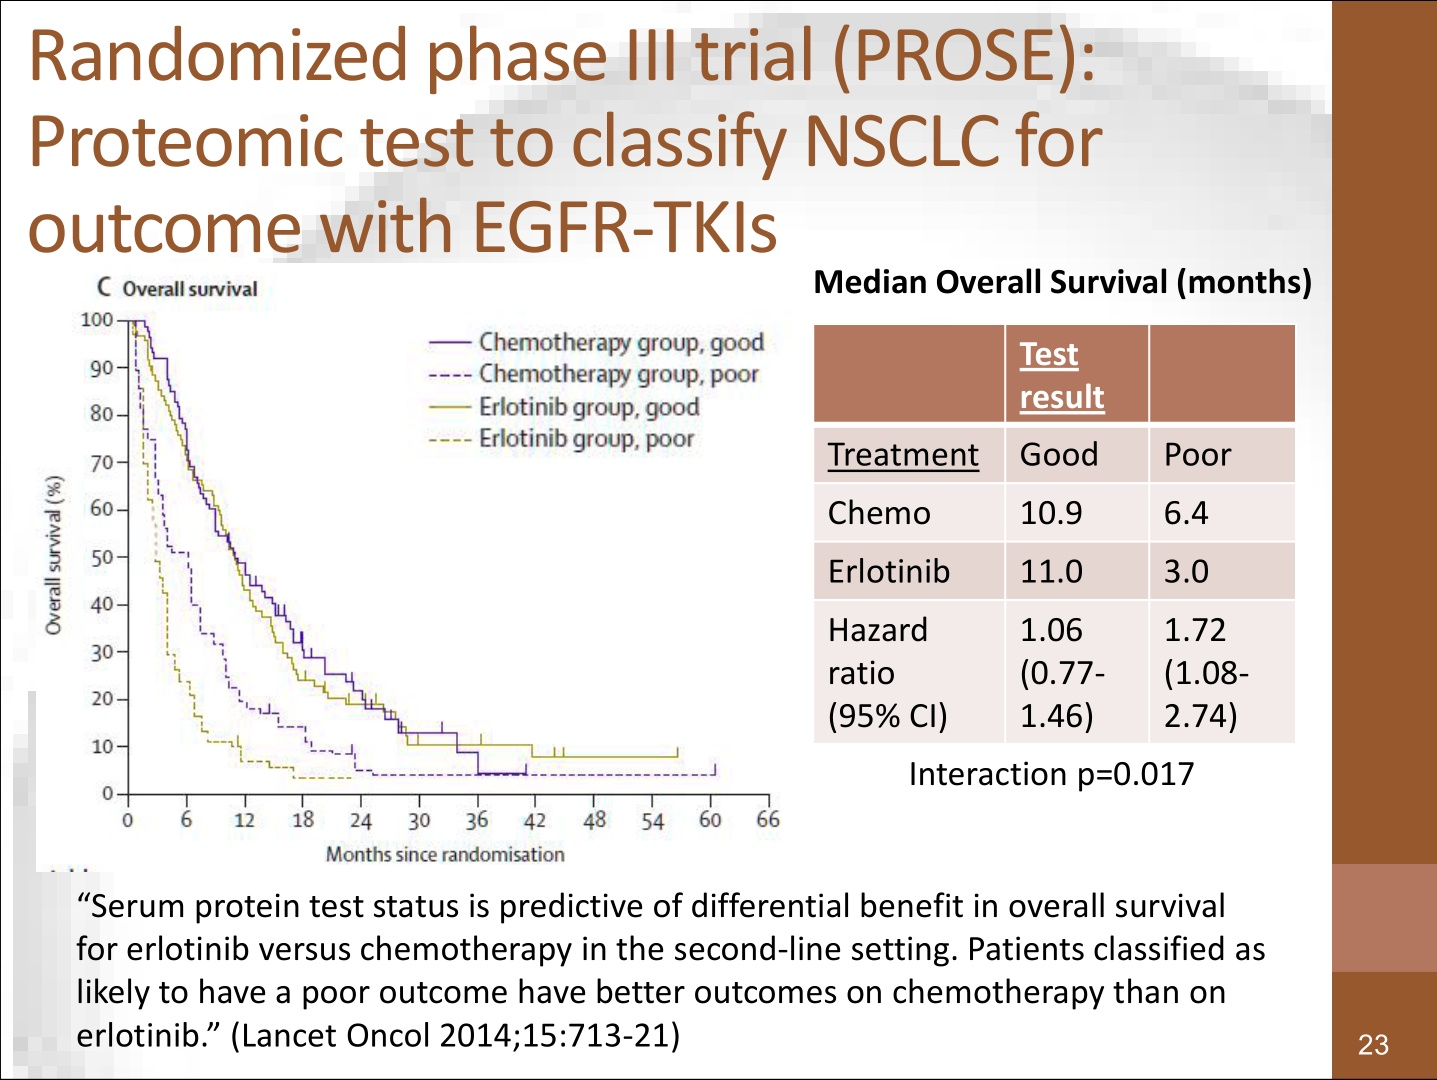full_lined: (812, 323, 1297, 746)
